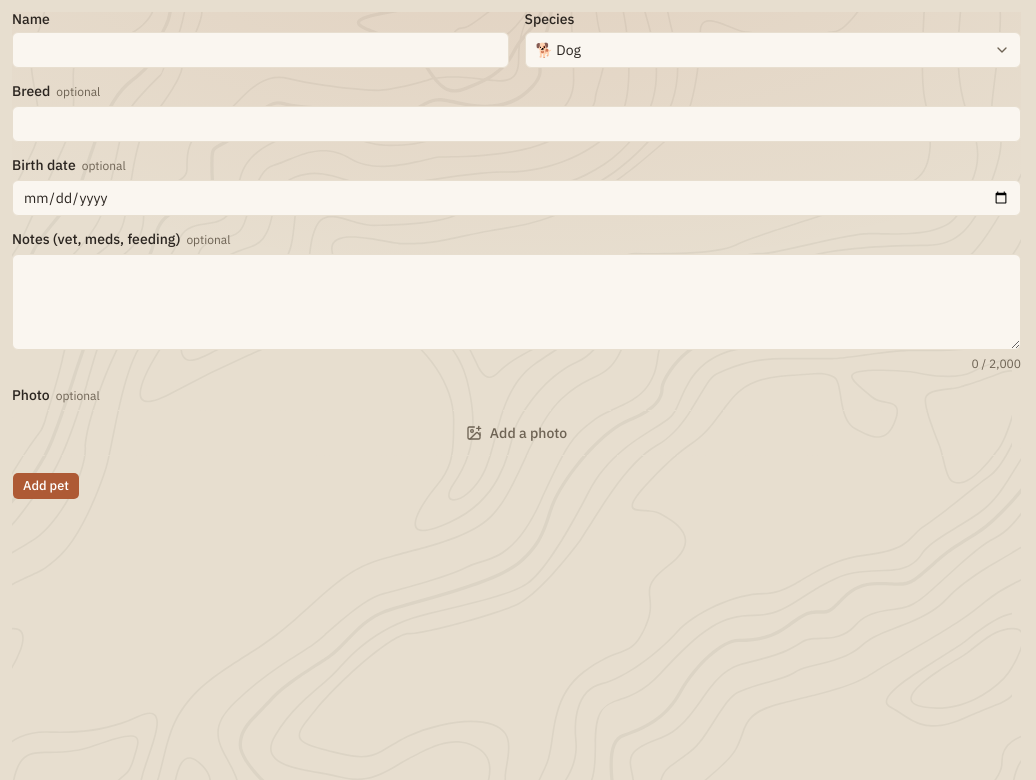
Test: PetForm › preserves typed values and shows the error when create fails
The width and height of the screenshot is (1036, 780).
In the field labelled "Name": (260, 50) 12,32 -> 508,68, type "Fido"
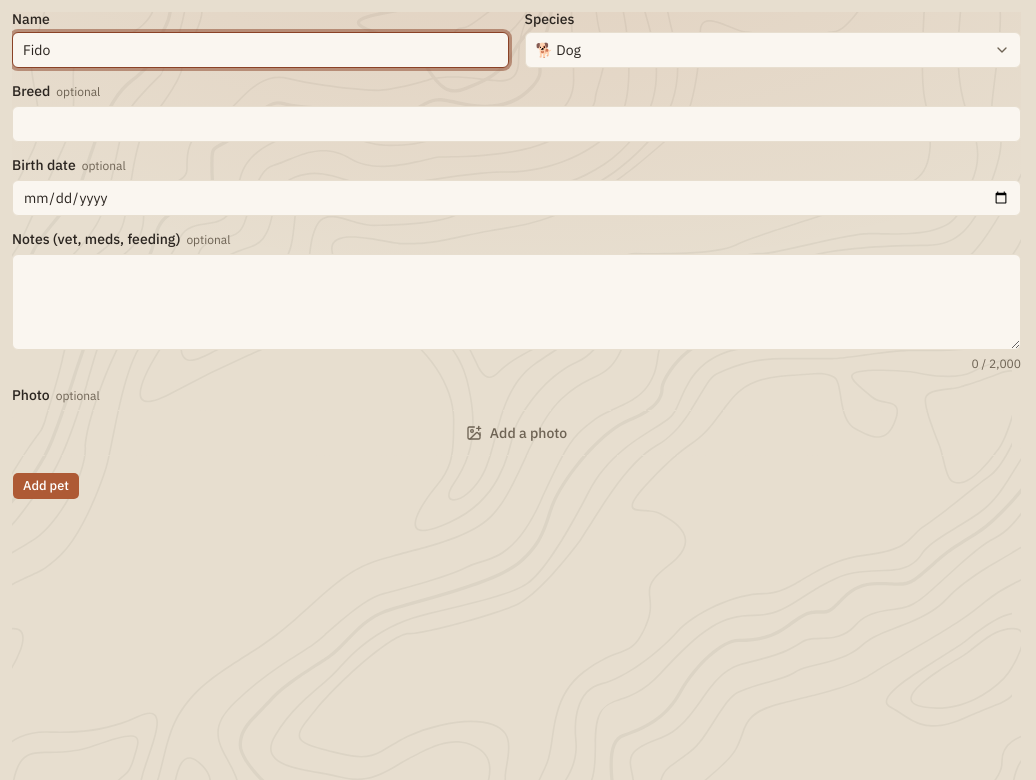
Click the button "Add pet": (46, 486) 12,472 -> 80,500
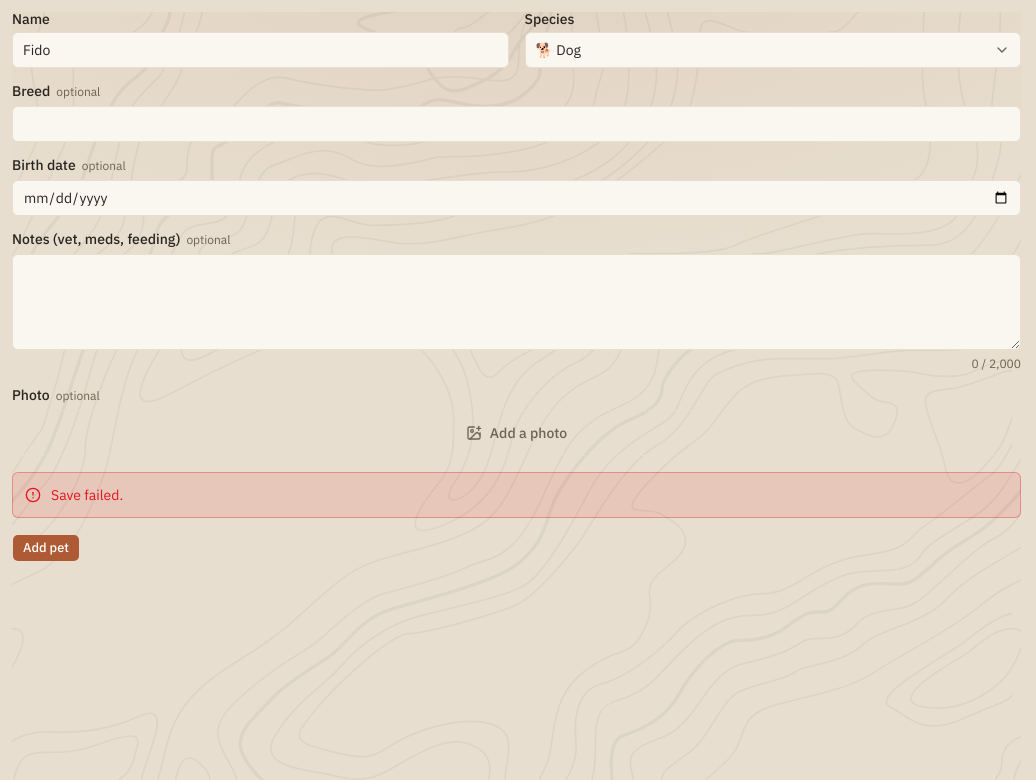
Result: the text "Save failed." is shown at 51,485 -> 123,505
